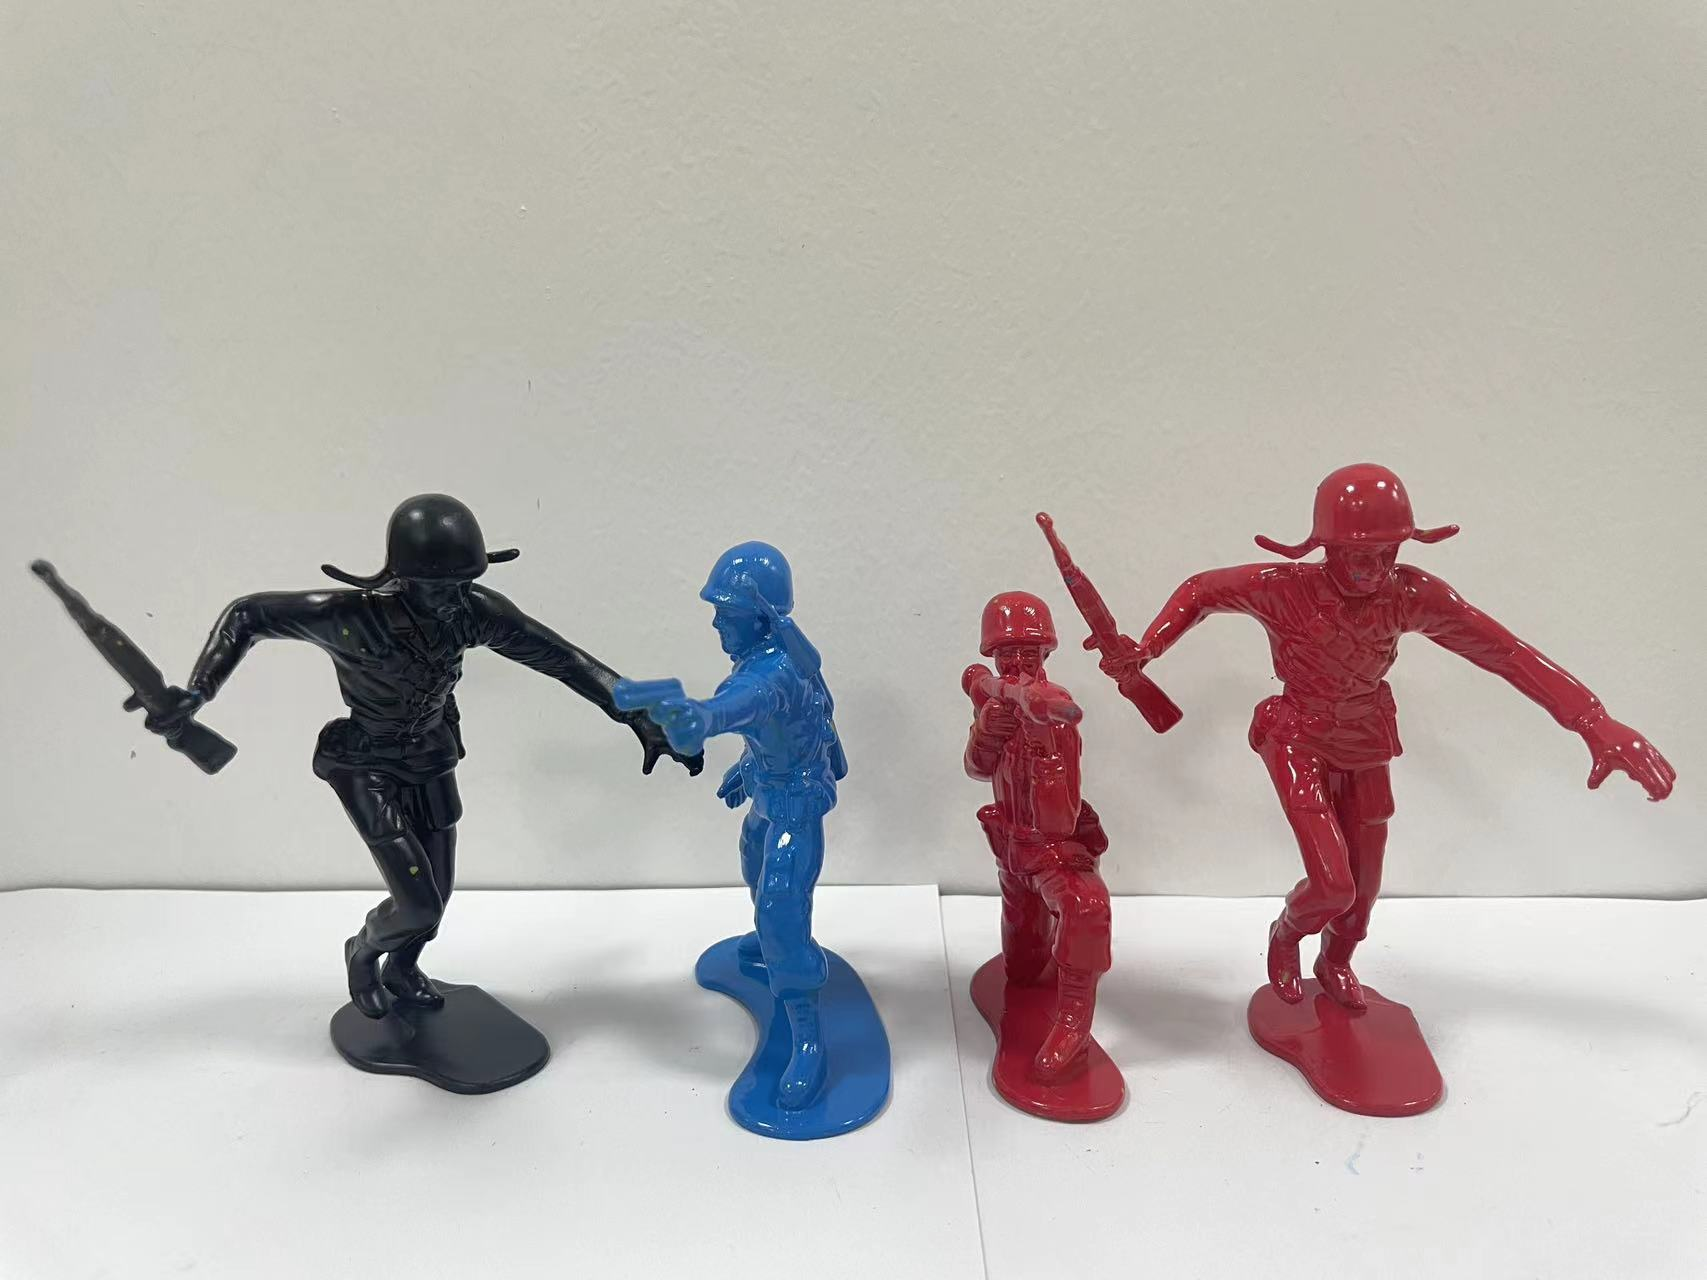black: (16, 460, 700, 1107)
blue: (601, 543, 931, 1155)
red: (1083, 422, 1679, 1142), (937, 570, 1128, 1131)
